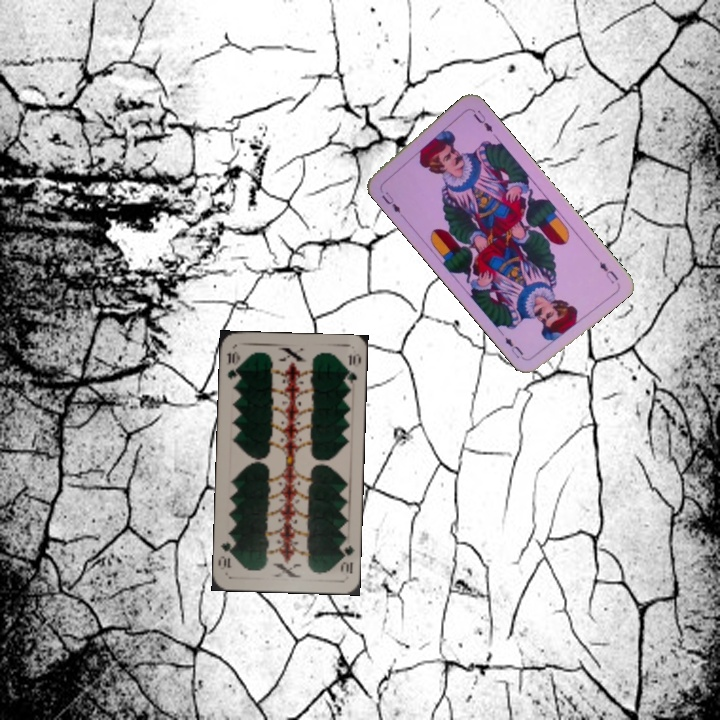EU: (591, 251, 621, 287), (377, 187, 403, 216)
G10: (336, 541, 357, 577), (223, 348, 242, 386)
